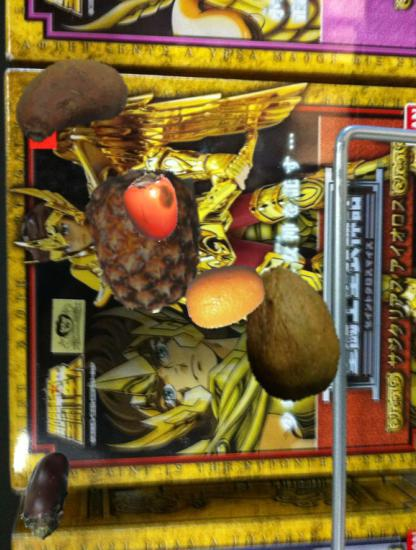Eggplant: (0, 448, 94, 542)
Kaki: (114, 170, 187, 243)
Kumquats: (185, 256, 266, 337)
Papaya: (221, 264, 361, 404)
Pineapple: (74, 167, 221, 314)
Potato: (10, 36, 130, 156)
